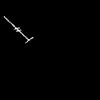treble_crochet: (11, 23, 32, 41)
